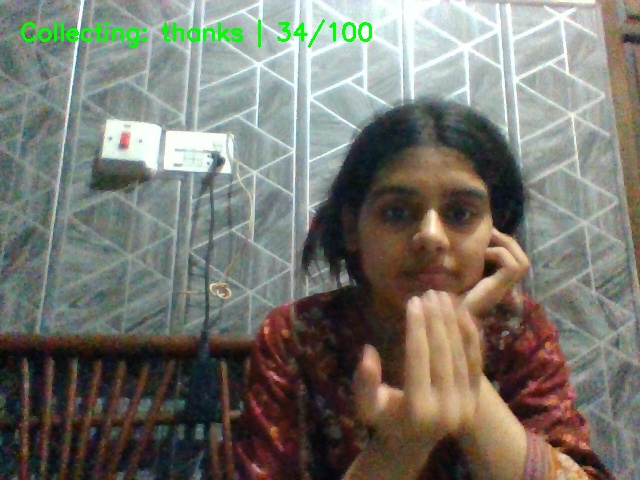thanks: (346, 284, 507, 480)
